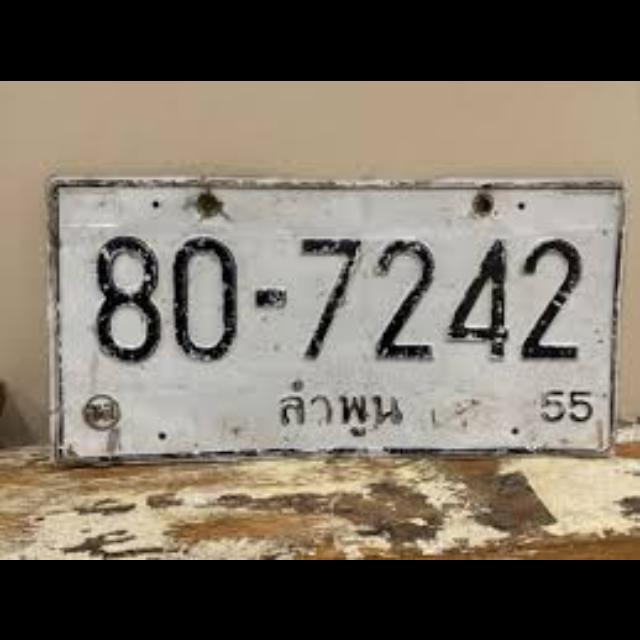licenseplate: (43, 174, 617, 458)
